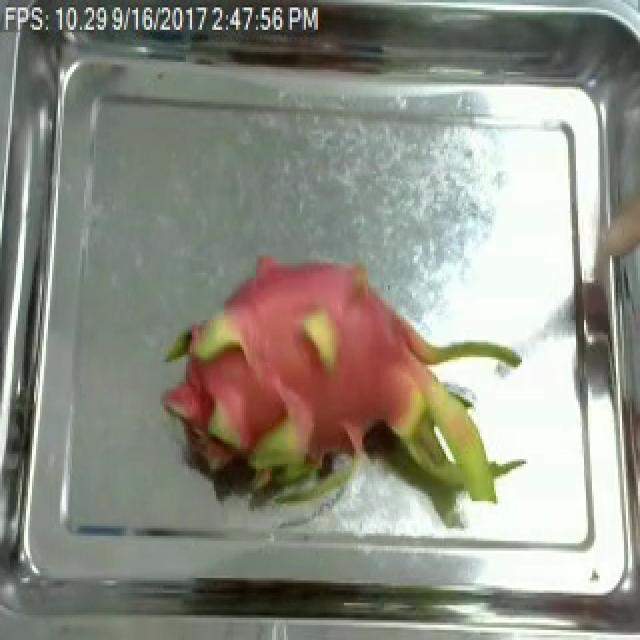fruit: (142, 231, 540, 548)
